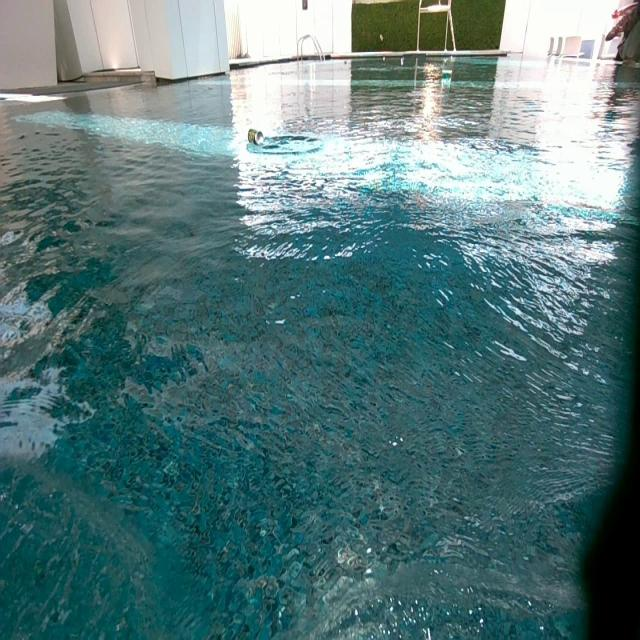Cans: (247, 129, 264, 146), (442, 68, 453, 80), (399, 58, 405, 66), (344, 60, 350, 63), (382, 57, 386, 61)
